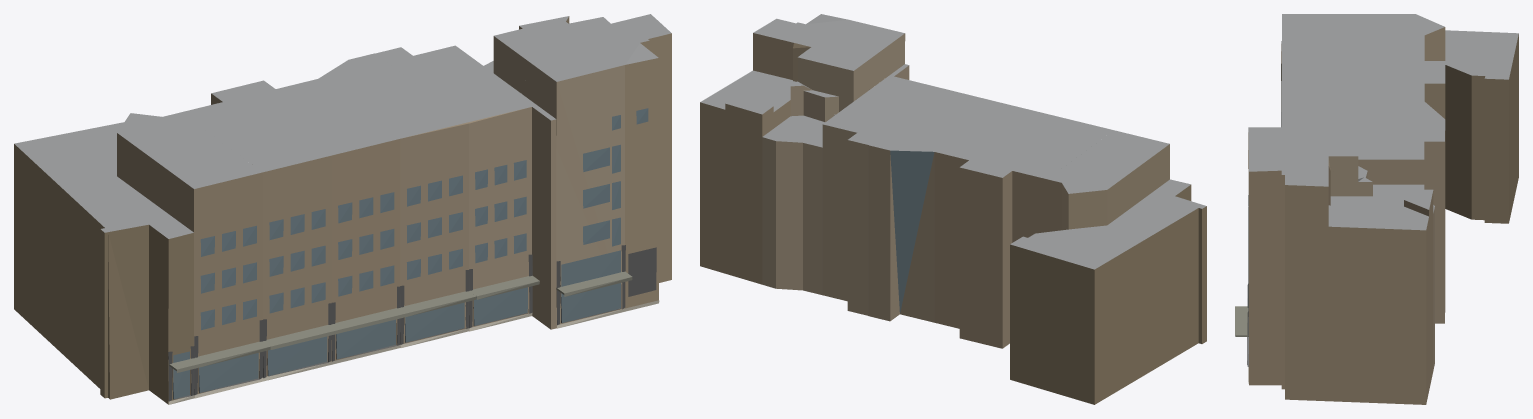
The model's file is chunk-face-evertsen-43-57.lod2.glb.
The picture shows the model from 3 angles, left to right: view 1: azimuth 30°, elevation 25°; view 2: azimuth 150°, elevation 25°; view 3: azimuth 270°, elevation 25°; orthographic projection. The views are drawn at different scales.
Parts seen in each view (by area): view 1: lod2; view 2: lod2; view 3: lod2.
Part boxes in pixels (left/top/right/bottom): lod2: left=14, top=14, right=671, bottom=404; lod2: left=700, top=14, right=1206, bottom=404; lod2: left=1235, top=14, right=1518, bottom=404.
Bounding box in the file's own units: 48.85 × 20.58 × 24.67.
